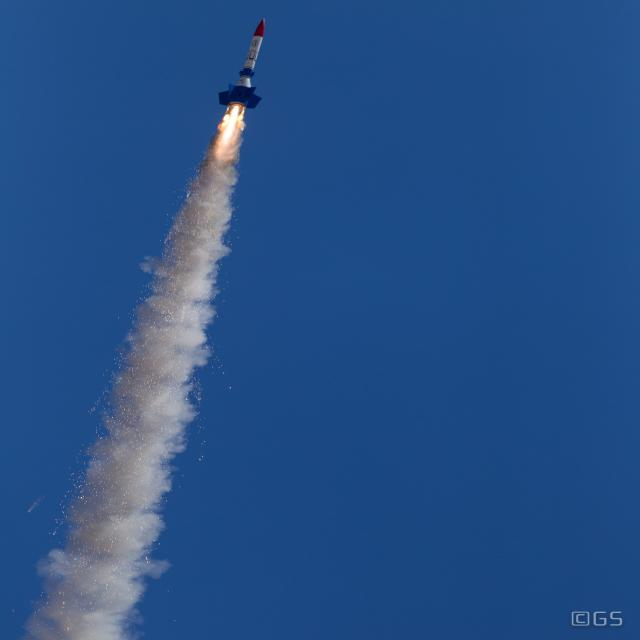Rocket: (217, 18, 266, 110)
